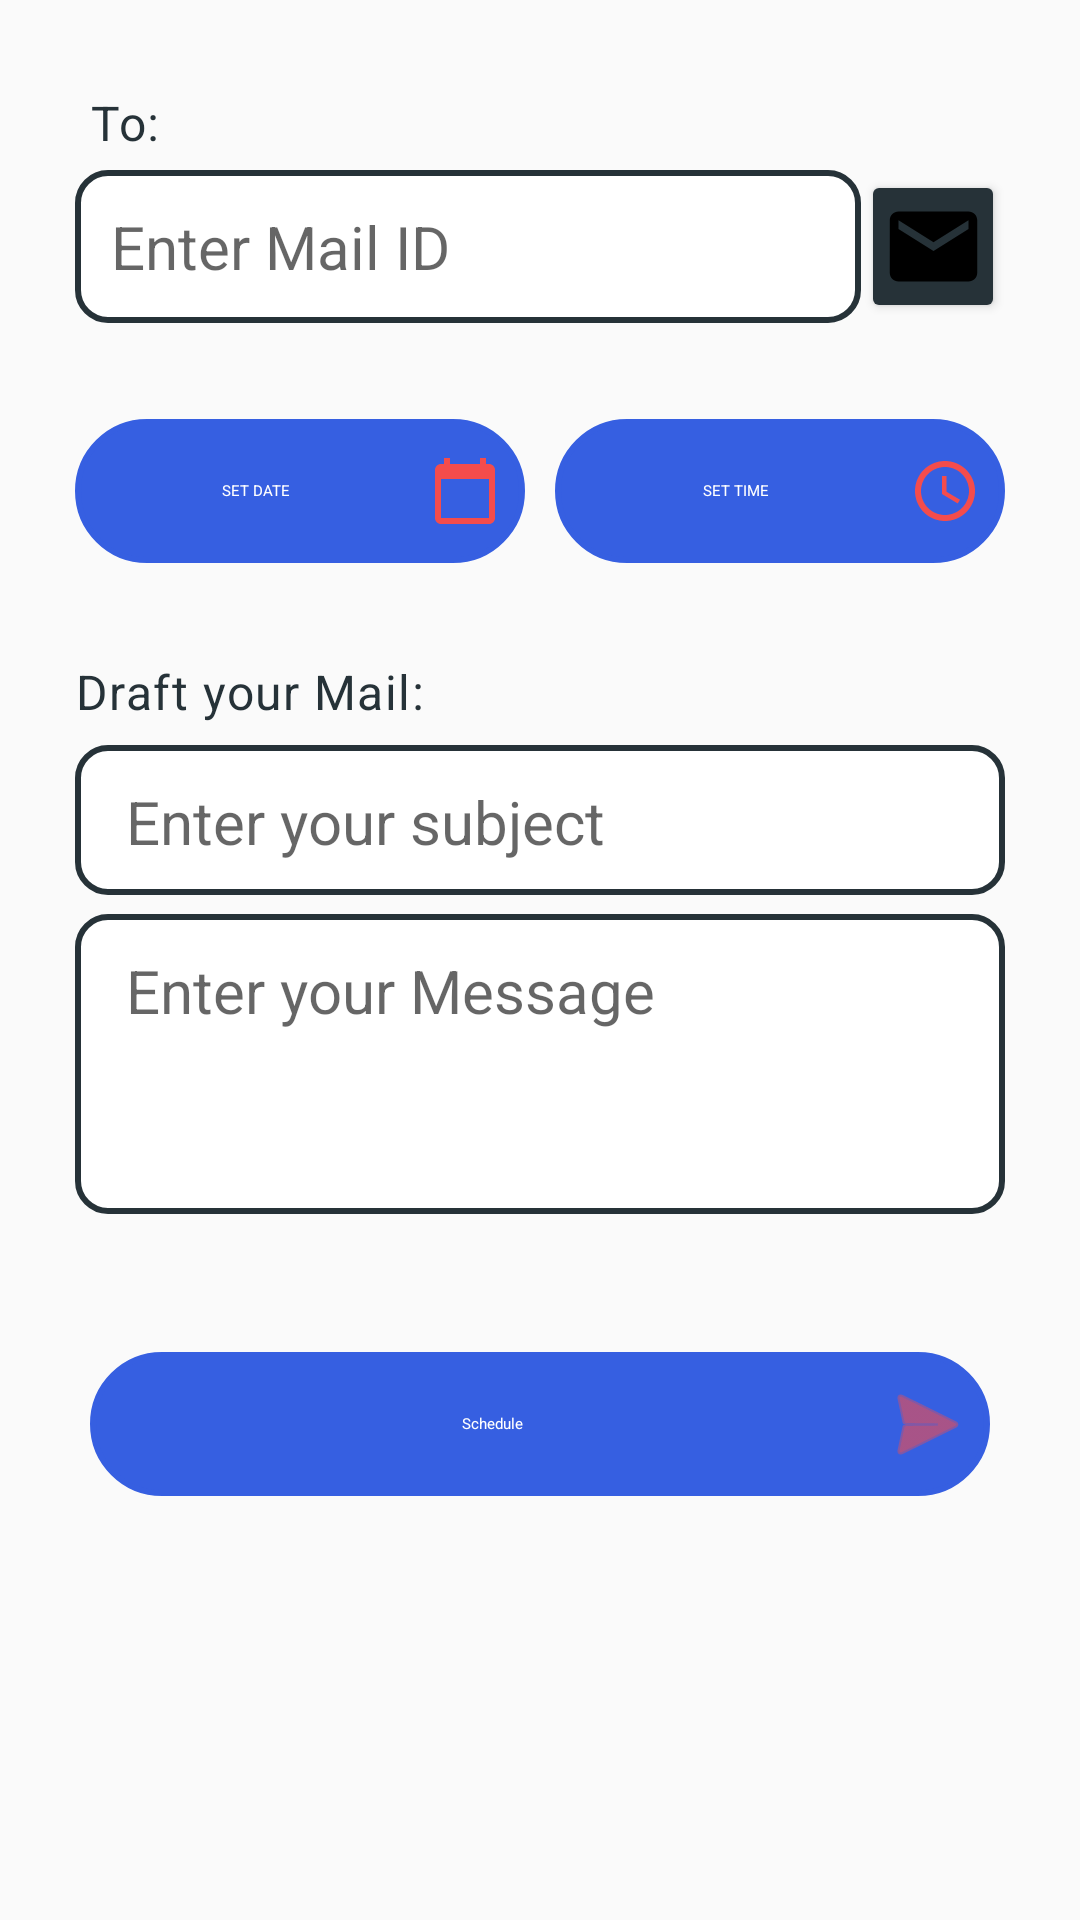

Icon bounding boxes for this 1080*1920 phone screenshot, format [left=x1, top=y1, right=x2, bottom=y2]:
email: [left=873, top=188, right=994, bottom=306]
